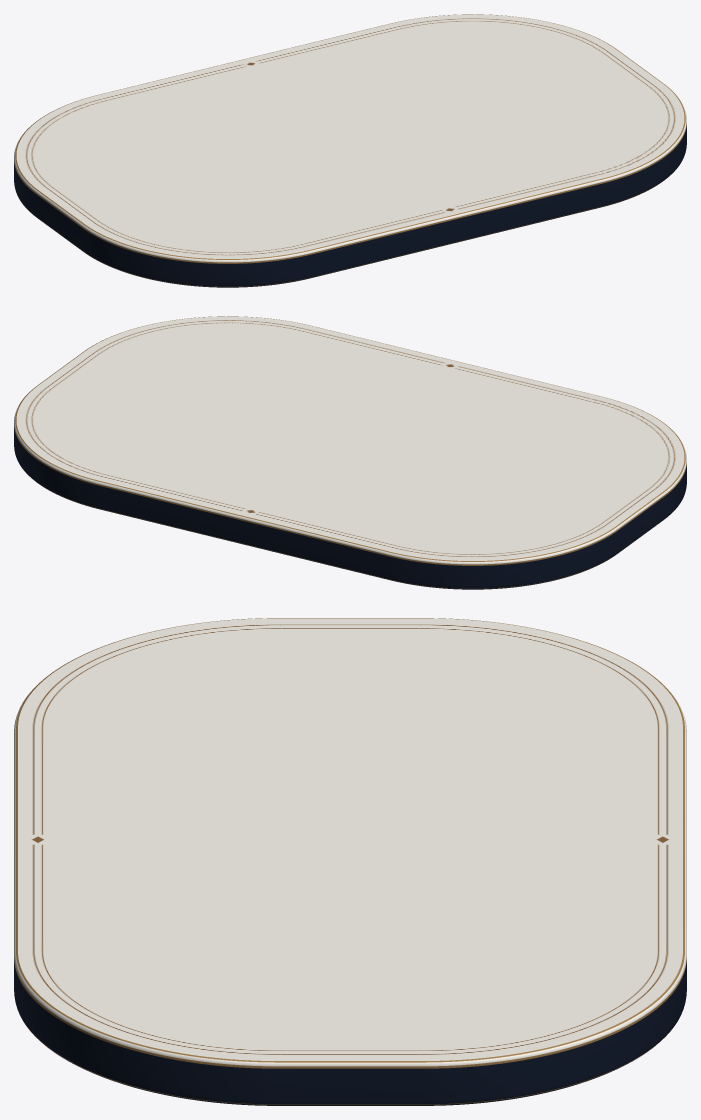
Rendered from table.glb.
3 views of the same model, one above another, from view 1: azimuth 30°, elevation 25°; view 2: azimuth 150°, elevation 25°; view 3: azimuth 270°, elevation 25° (orthographic). The views are drawn at different scales.
Parts seen in each view (by area): view 1: LORE_Ivory_Table; view 2: LORE_Ivory_Table; view 3: LORE_Ivory_Table.
Part boxes in pixels (x1,y1,x2,y2): LORE_Ivory_Table: (14,14,686,287); LORE_Ivory_Table: (14,316,686,589); LORE_Ivory_Table: (14,618,686,1105).
Size of the model in its own units: 1.6 by 0.075 by 1.02.
3 materials, 1 textured.
